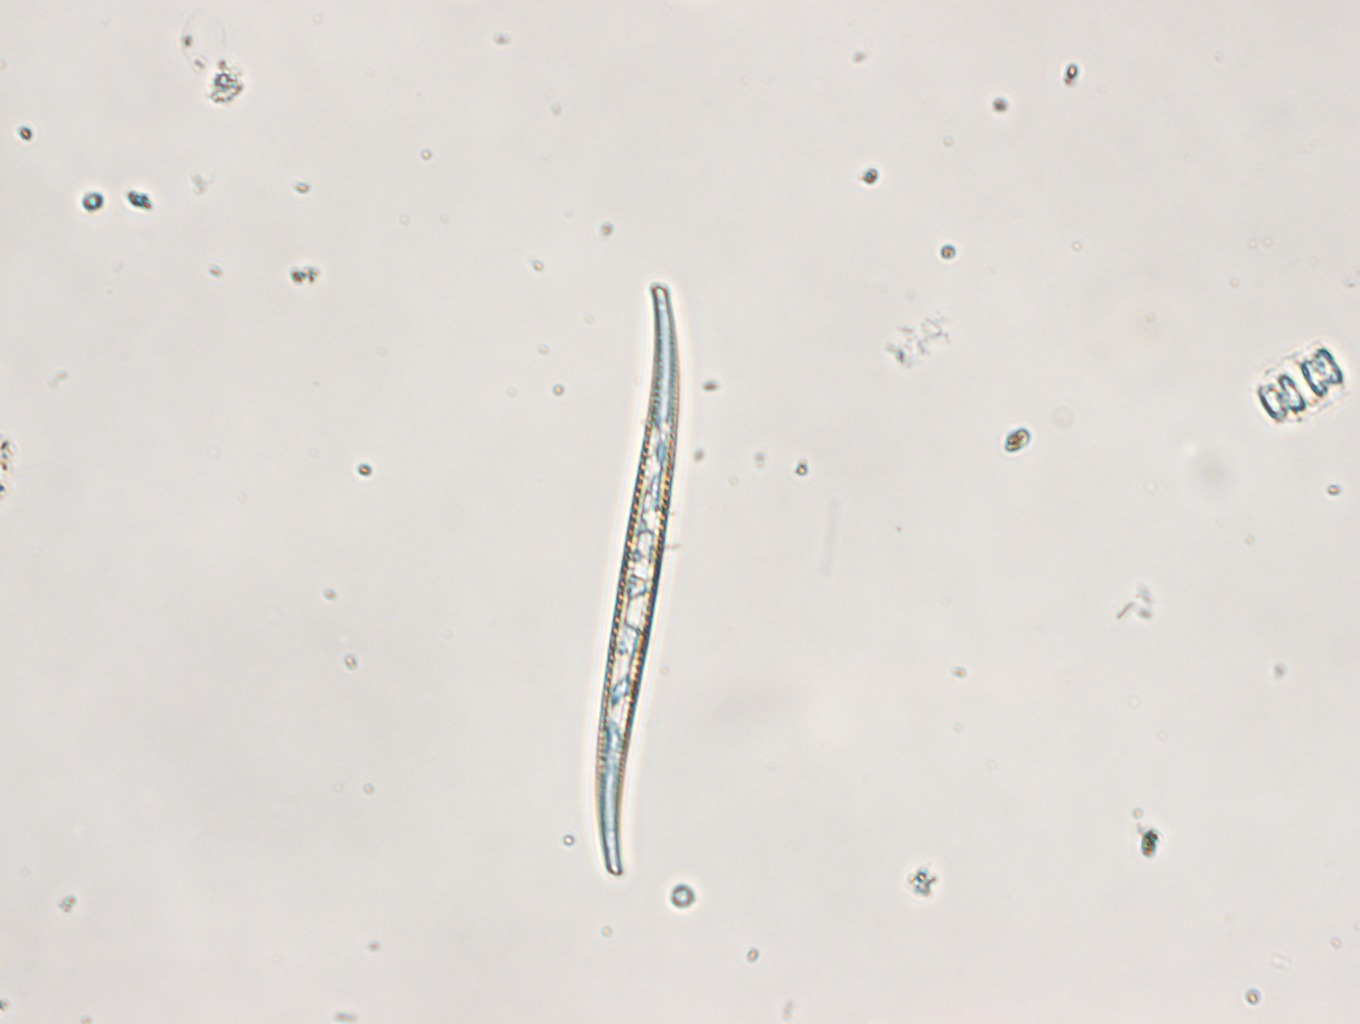pleurosigma pelagicum: (583, 275, 695, 876)
